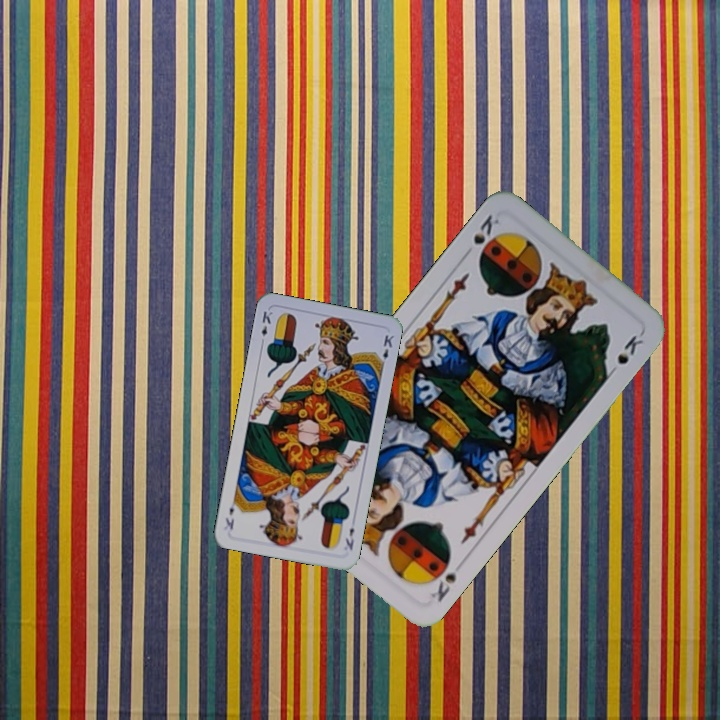EK: (257, 307, 275, 347), (341, 524, 357, 553)
SK: (426, 551, 468, 605), (469, 210, 502, 261)
